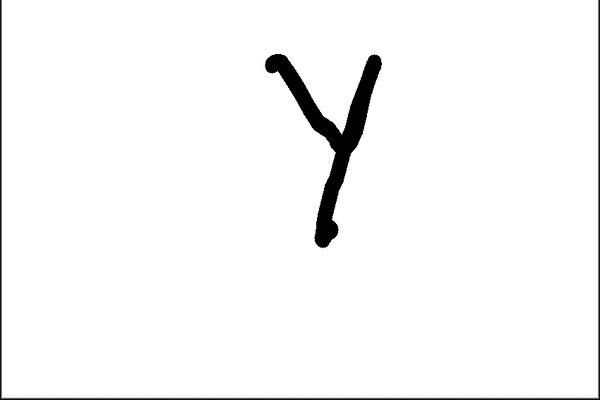Y: (248, 42, 385, 254)
